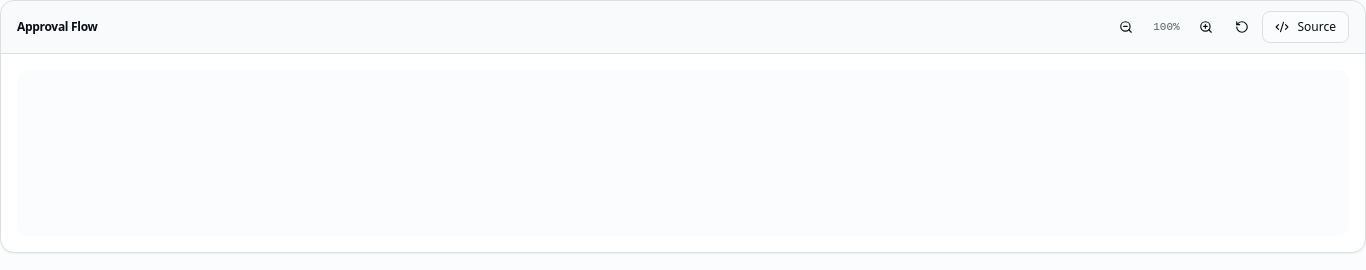
Scenario: MermaidDiagramCard › renders valid Mermaid SVG with zoom controls and source toggle
The image size is (1366, 270).
Expected: the text "100%" is shown, [1153,21,1180,33]
Step 1. Click the button named "Zoom in" → (1206,27), box [1190,11,1222,43]
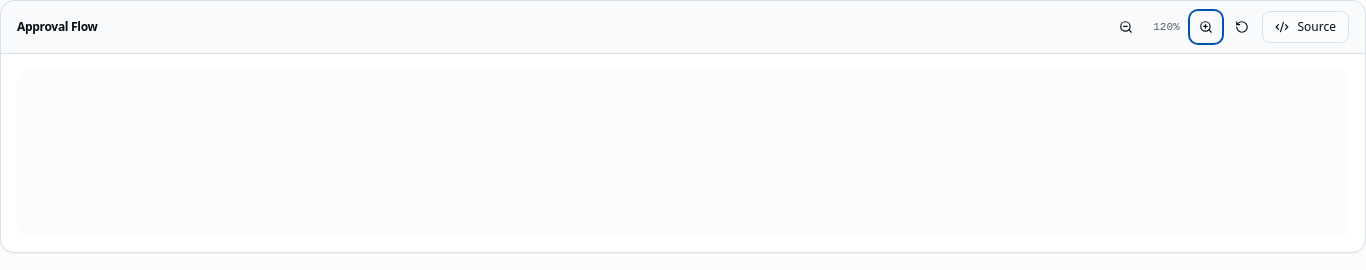
Expected: the text "120%" is shown, [1153,21,1180,33]
Step 2. Click the button named "Reset zoom" → (1242,27), box [1226,11,1258,43]
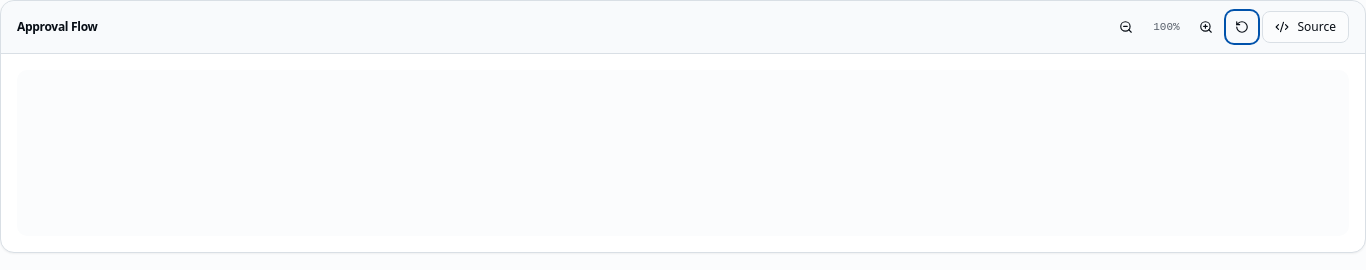
Expected: the text "100%" is shown, [1153,21,1180,33]
Step 3. Click the button "Source" → (1306,27), box [1262,11,1349,43]
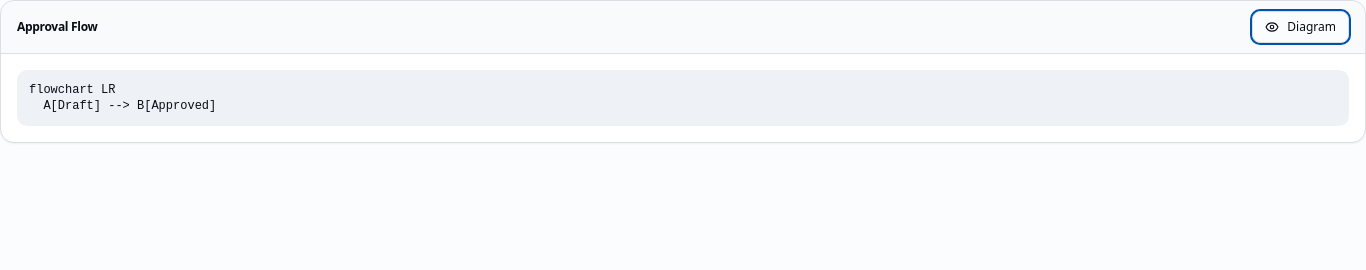
Expected: the text "flowchart LR A[Draft] --> B[Approved]" is shown, [29,83,216,113]
